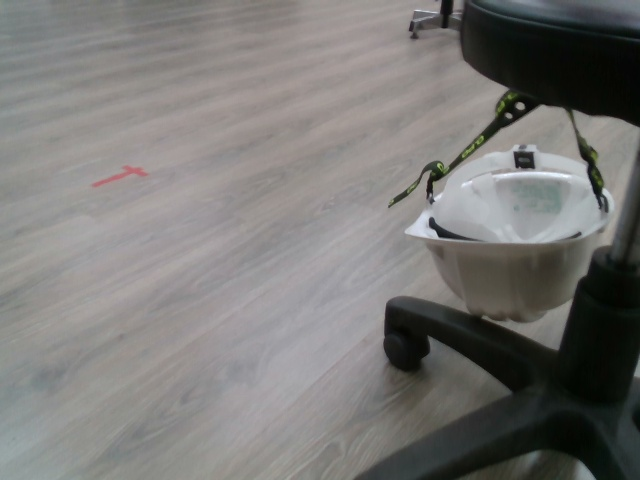helmet: (401, 137, 614, 322)
